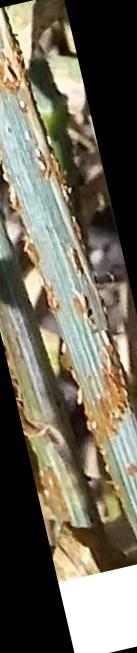Wheat: (34, 240, 130, 424)
